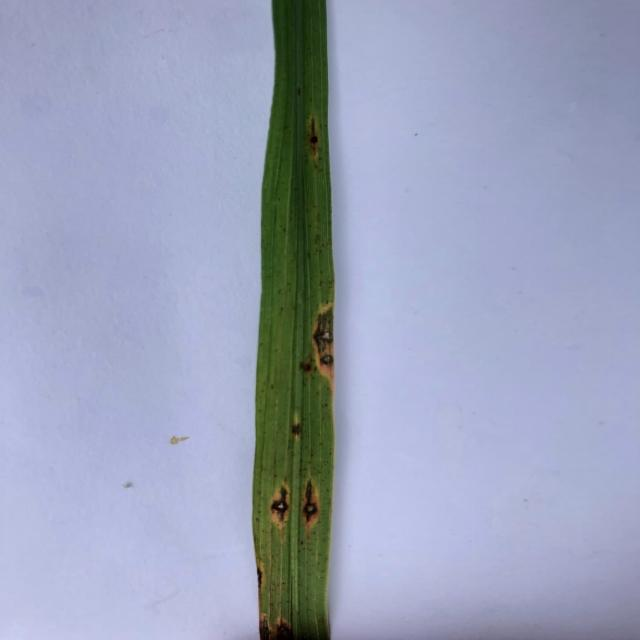leaf blast: (309, 296, 335, 389), (293, 476, 333, 530), (302, 110, 329, 167), (256, 604, 296, 640), (265, 483, 293, 534), (282, 405, 311, 444), (251, 559, 271, 594)
